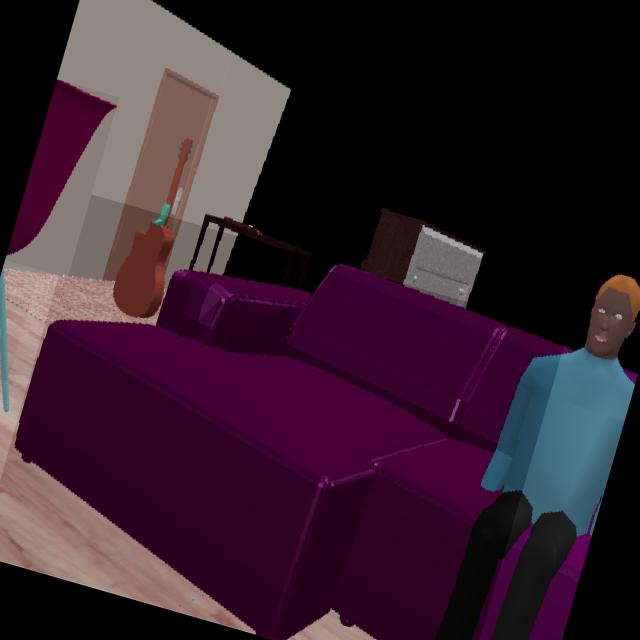chair: (6, 79, 116, 260), (0, 268, 7, 380)
person: (434, 275, 640, 640)
sofa: (13, 266, 562, 640)
